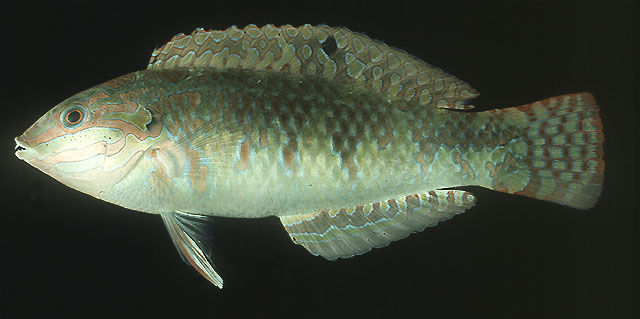fish: (15, 21, 606, 290)
